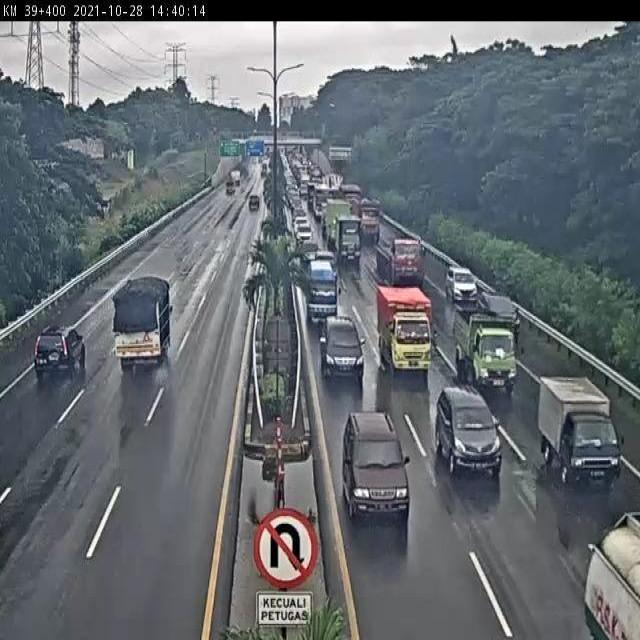big truck: (375, 232, 426, 281)
car: (541, 380, 622, 484), (340, 408, 411, 521), (433, 386, 503, 474), (319, 314, 366, 382), (35, 323, 88, 377), (478, 290, 521, 334), (445, 263, 480, 305)
small bus: (305, 260, 341, 329)
small truck: (449, 304, 519, 389), (377, 284, 435, 377)
truck-m-: (113, 276, 175, 372)
